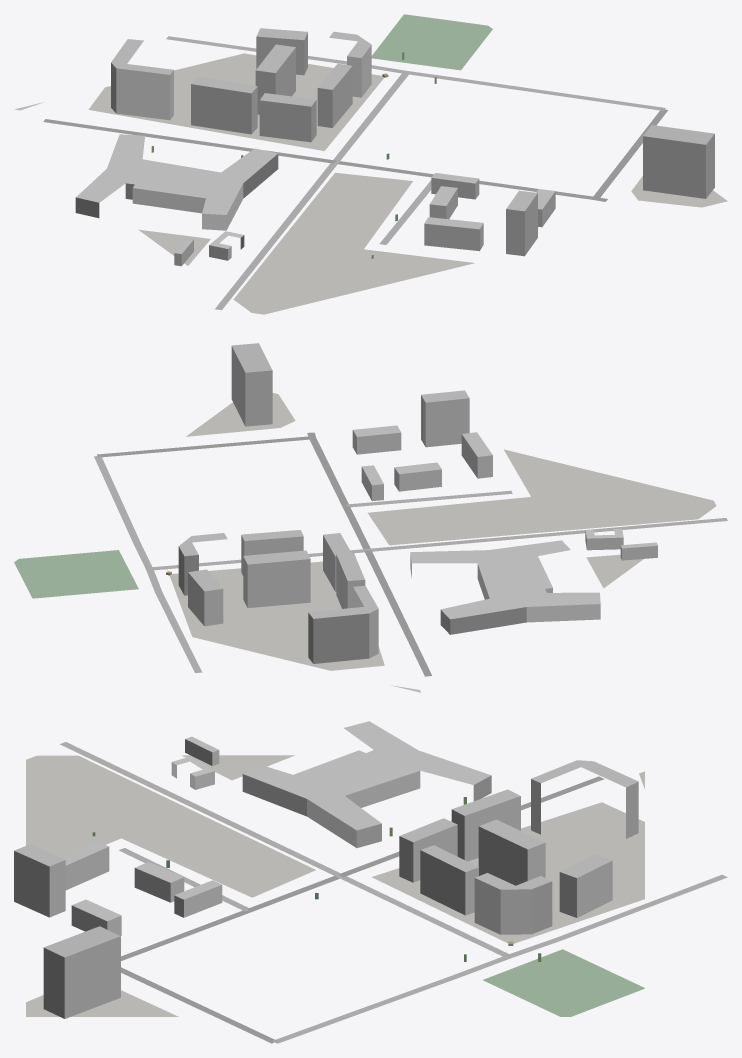
The picture shows the model from 3 angles, top to bottom: view 1: azimuth 30°, elevation 25°; view 2: azimuth 150°, elevation 25°; view 3: azimuth 270°, elevation 25°; orthographic projection. The views are drawn at different scales.
Bounding box in the file's own units: 583 × 55.29 × 577.
